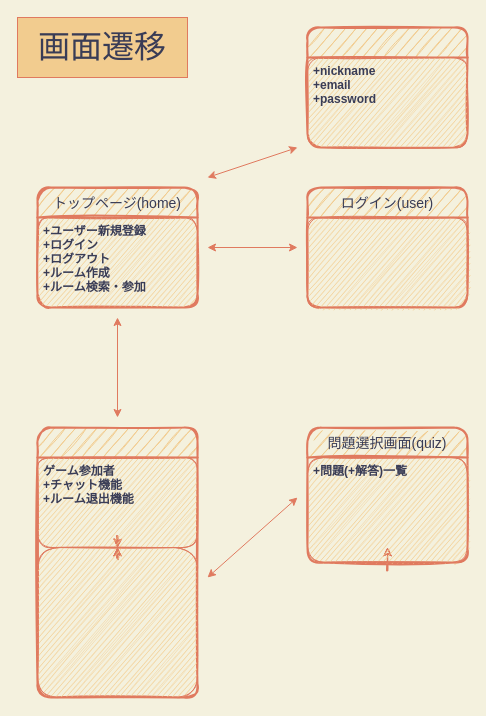
This 486x716 diagram has some shape labels left out. The shapes that lost their labels are listed below. From the top down, each one's box as (x1, y1, x2, y2) in pixels, then its label:
(306, 26, 468, 148): 新規登録画面(user)
(306, 216, 468, 308): +email +password
(36, 426, 198, 698): ゲームルーム(room)
(36, 546, 198, 698): 出題者 +問題文選択機能 +タイマー機能 +解答表示機能 +チャット機能 +コメント機能 +ルーム退出機能
